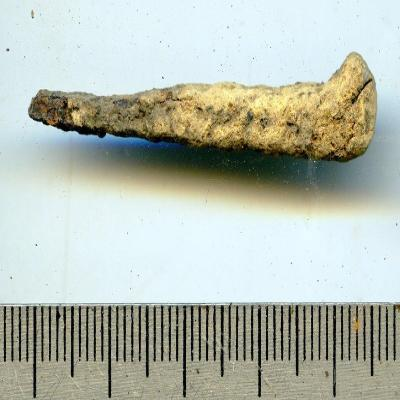archeology: (26, 52, 378, 164)
